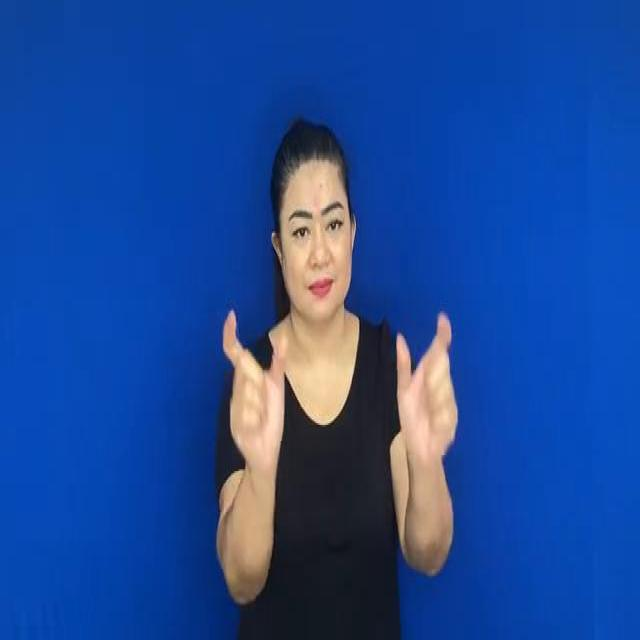crab: (377, 302, 472, 478), (215, 296, 298, 486)
